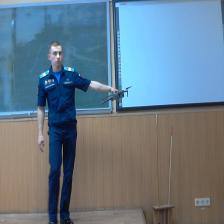drone: (98, 85, 132, 104)
